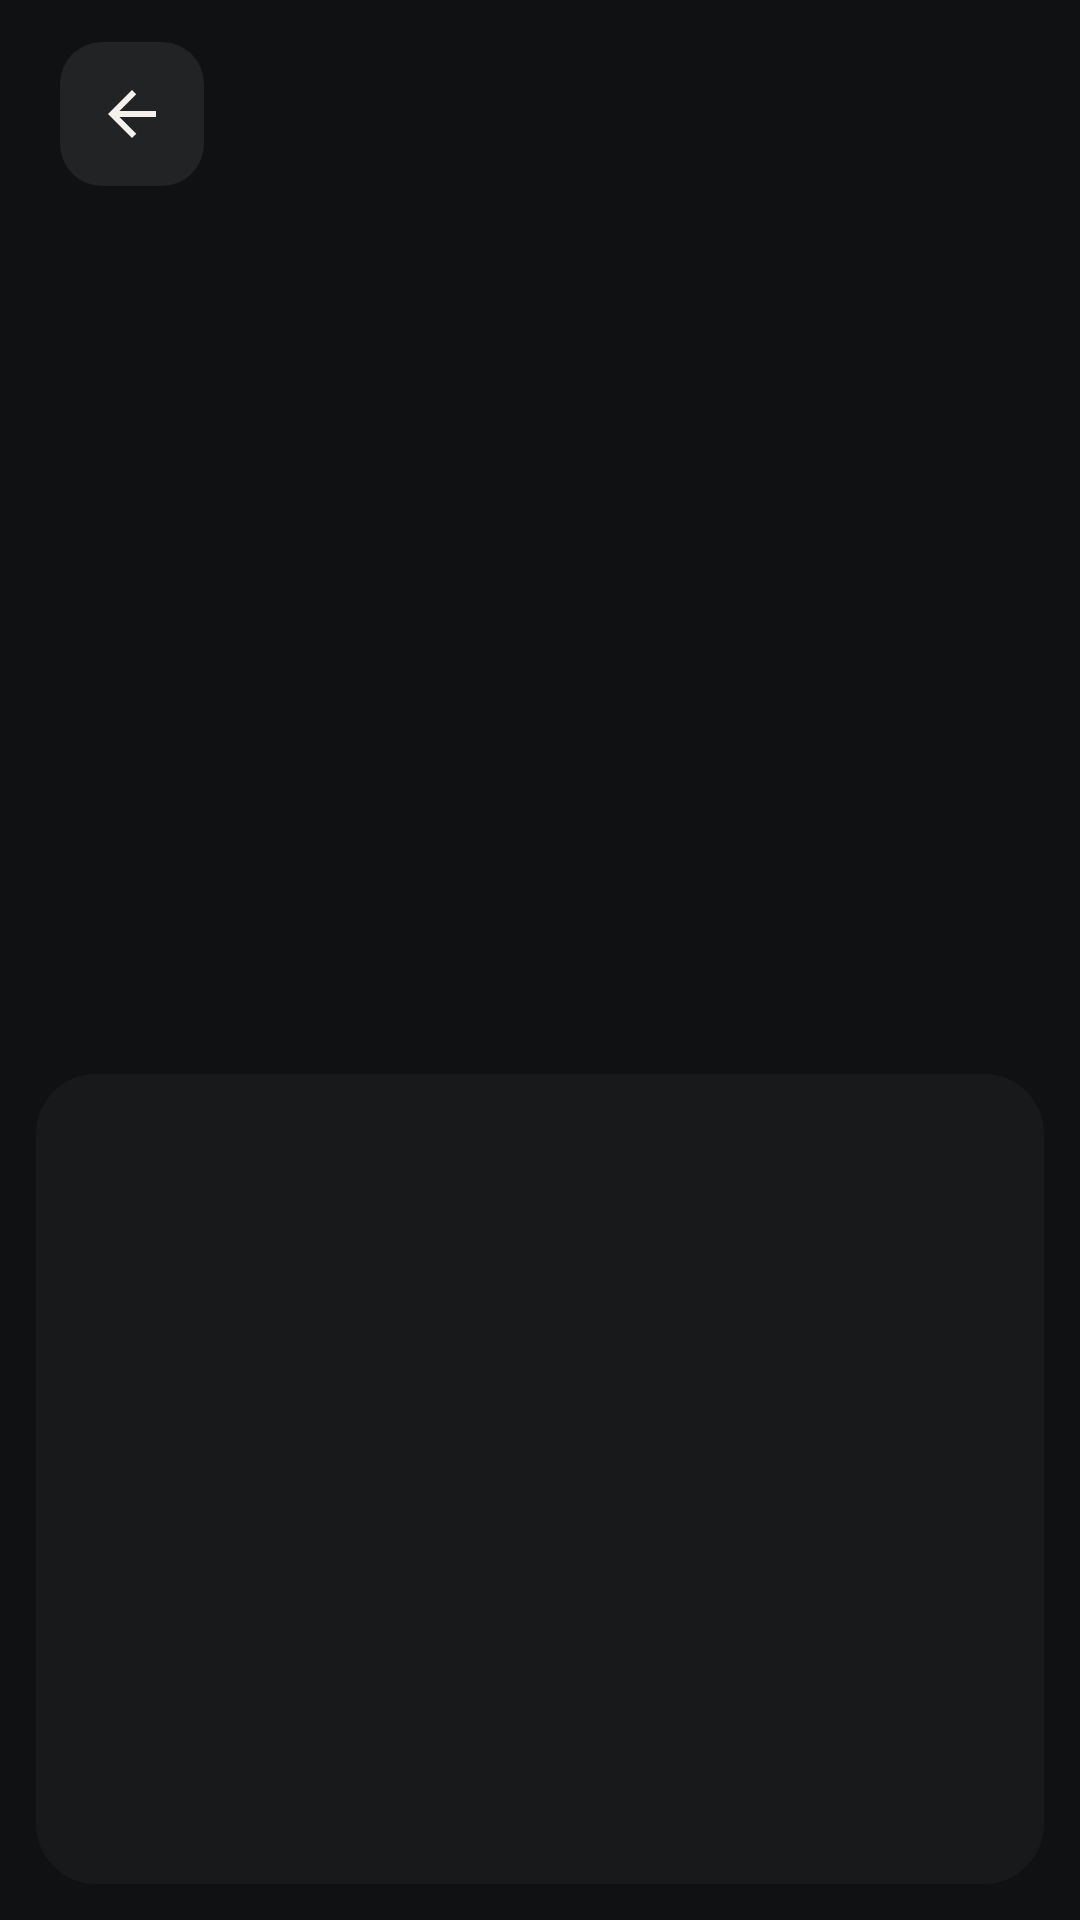

Locate icon controls on the screen. Image size 1080x1920, boxes as (x1, y1, x2, y2).
Back: (60, 42, 204, 186)
